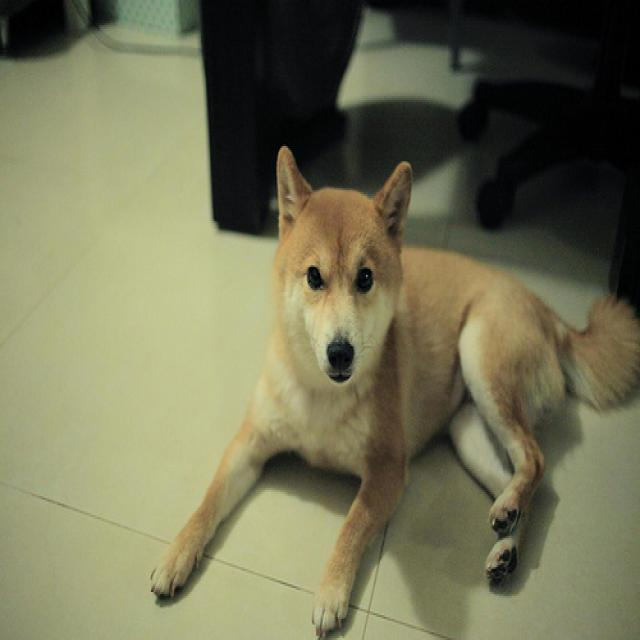dog-shiba_inu: (140, 136, 637, 636)
